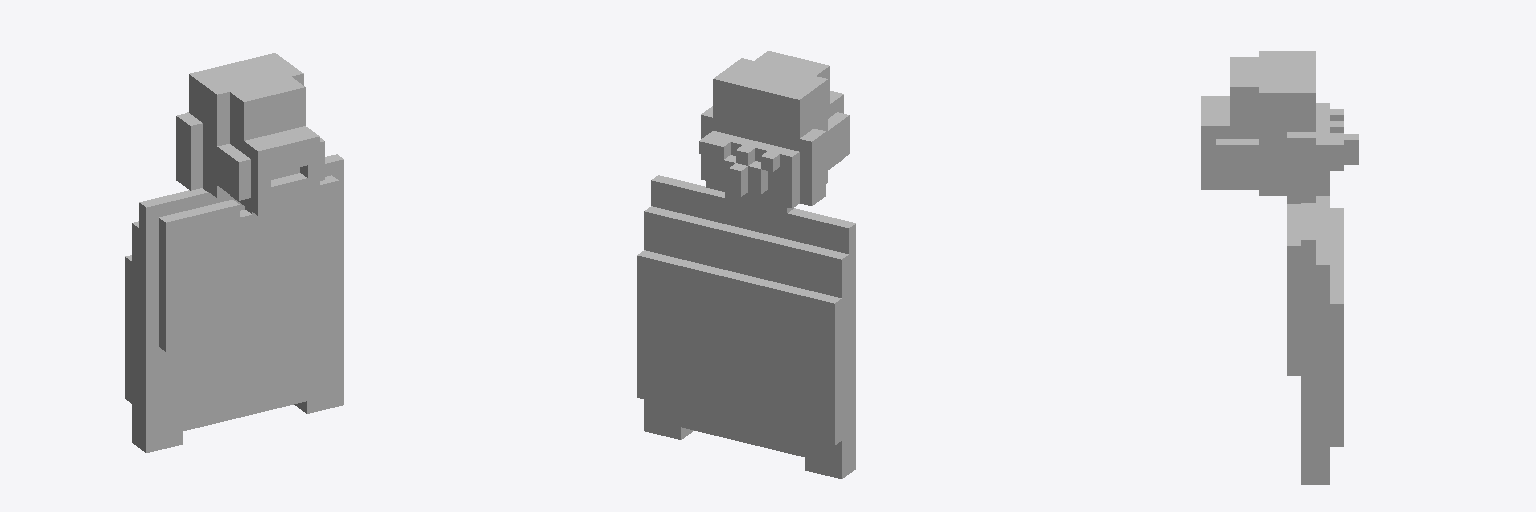
The model's file is Body.obj.
3 views of the same model, side by side, from view 1: azimuth 30°, elevation 25°; view 2: azimuth 150°, elevation 25°; view 3: azimuth 270°, elevation 25° (orthographic).
Visible parts, largest first — view 1: object 1; view 2: object 1; view 3: object 1.
Part boxes in pixels (bbox=[...]): object 1: bbox=[125, 53, 343, 452]; object 1: bbox=[637, 51, 855, 478]; object 1: bbox=[1201, 51, 1358, 484].
Size of the model in its own units: 1.6 by 2.8 by 1.1.